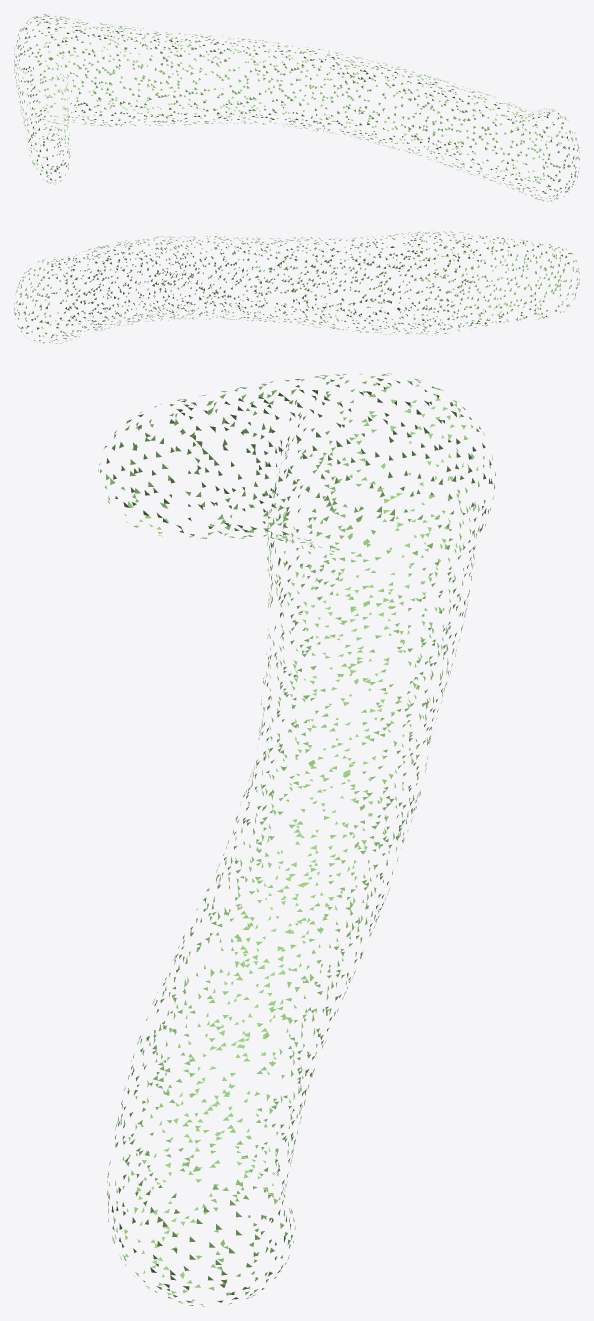
File: morph_014.glb
The picture shows the model from 3 angles, top to bottom: view 1: azimuth 30°, elevation 25°; view 2: azimuth 150°, elevation 25°; view 3: azimuth 270°, elevation 25°; orthographic projection. The views are drawn at different scales.
Bounding box in the file's own units: 137 × 60.93 × 44.51.
